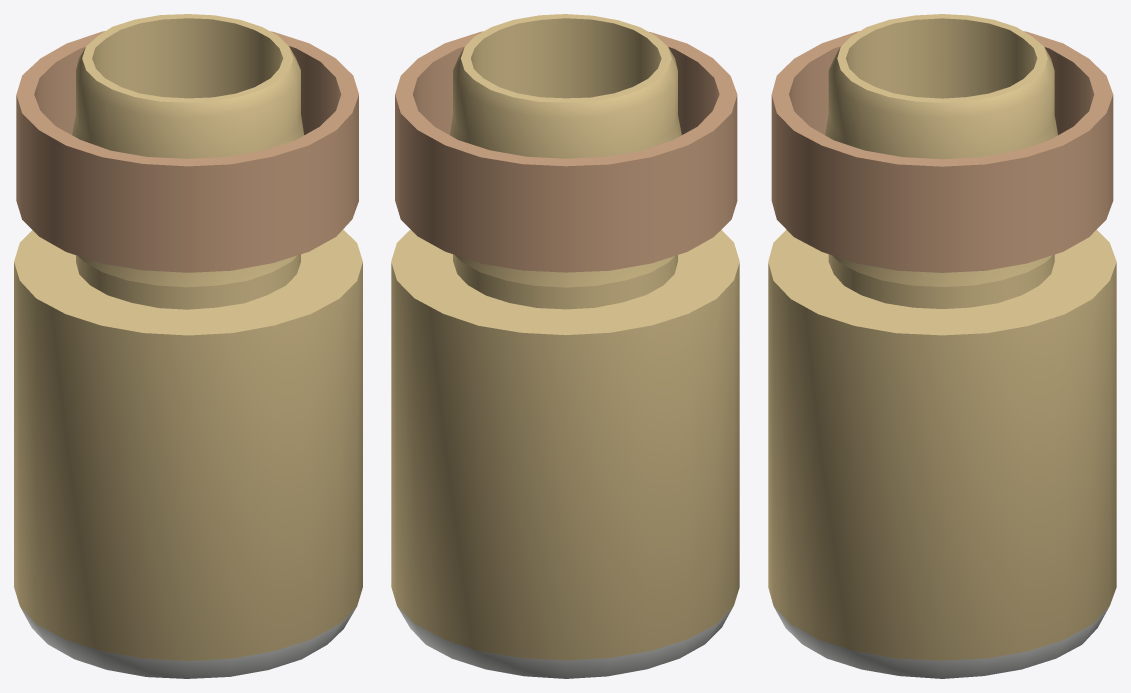
The model's file is slab_pipes_supply__water-city_filter_and_softener-no_and_plumbing-pex_branch.glb.
3 views of the same model, side by side, from view 1: azimuth 30°, elevation 25°; view 2: azimuth 150°, elevation 25°; view 3: azimuth 270°, elevation 25° (orthographic).
Parts seen in each view (by area): view 1: fit_adapter_pipe_supply_tb_cold_trunk; view 2: fit_adapter_pipe_supply_tb_cold_trunk; view 3: fit_adapter_pipe_supply_tb_cold_trunk.
Boxes of the visible parts, x1,y1,x2,y2 form: fit_adapter_pipe_supply_tb_cold_trunk: [14, 14, 362, 678]; fit_adapter_pipe_supply_tb_cold_trunk: [391, 14, 739, 678]; fit_adapter_pipe_supply_tb_cold_trunk: [768, 14, 1116, 678].
Size of the model in its own units: 0.0247 by 0.0431 by 0.0247.
